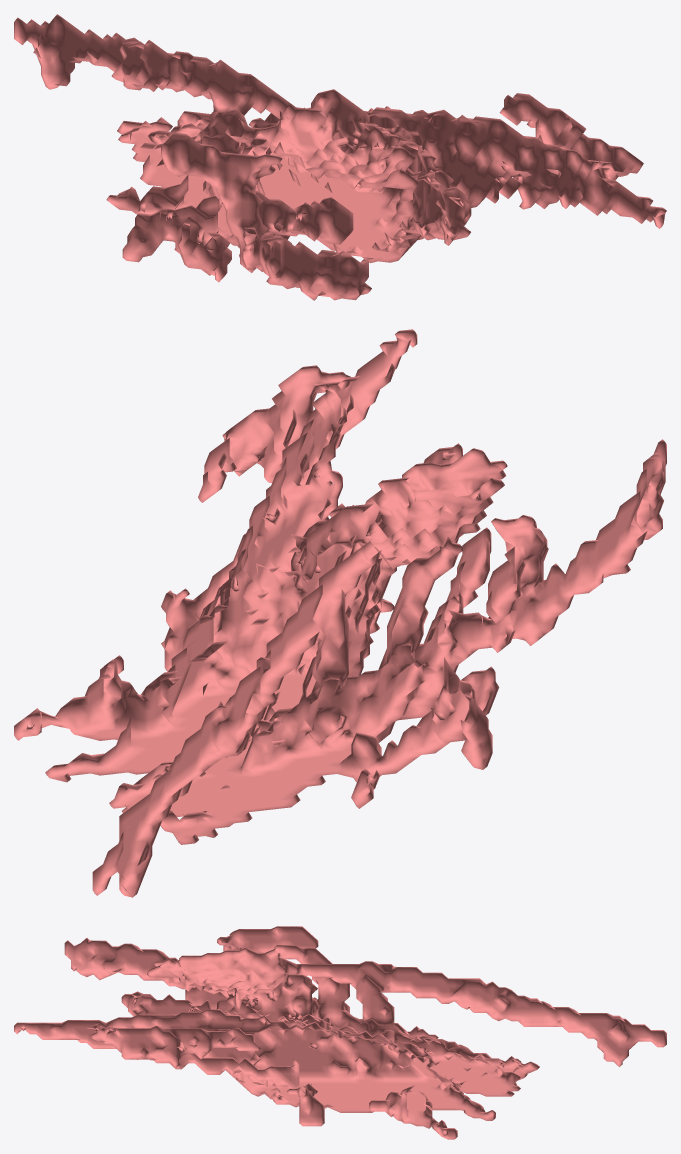
The model's file is osteocyte_6.glb.
3 renders of one model, top to bottom at view 1: azimuth 30°, elevation 25°; view 2: azimuth 150°, elevation 25°; view 3: azimuth 270°, elevation 25°, orthographic. The views are drawn at different scales.
Parts seen in each view (by area): view 1: osteocyte_6; view 2: osteocyte_6; view 3: osteocyte_6.
Boxes of the visible parts, box(x1,y1,x2,y2) form: osteocyte_6: box(14, 14, 666, 300); osteocyte_6: box(14, 329, 666, 897); osteocyte_6: box(14, 926, 666, 1139).
Bounding box in the file's own units: 19.67 × 8.05 × 46.05.
